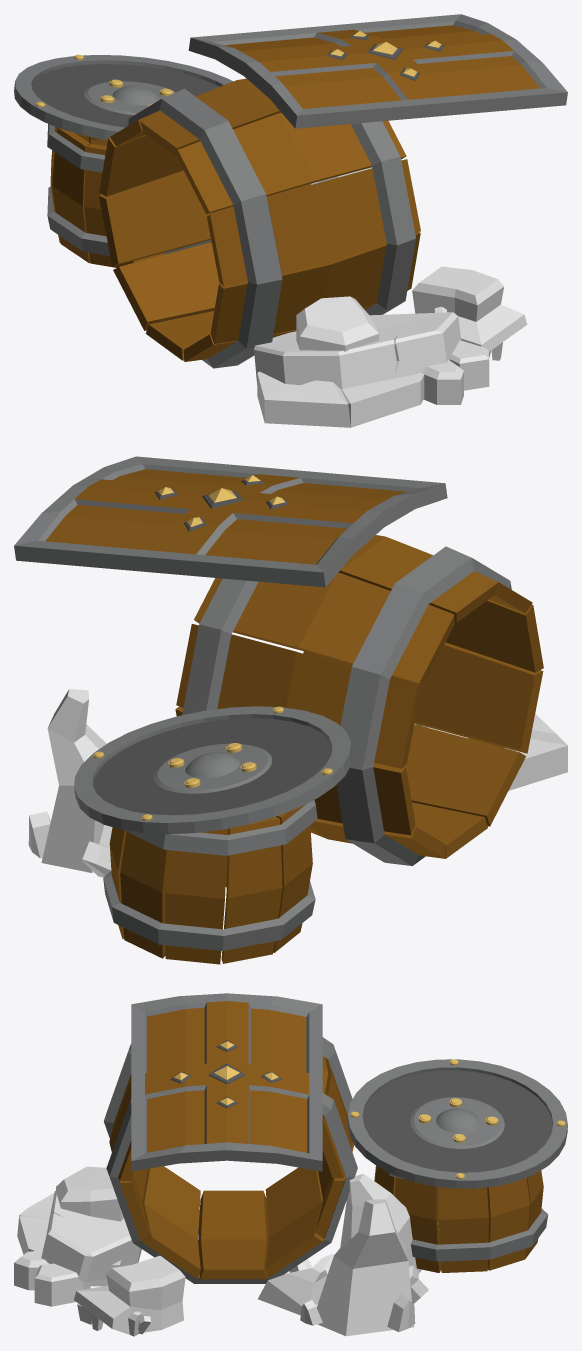
File: GoblinHouse3.fbx
3 views of the same model, one above another, from view 1: azimuth 30°, elevation 25°; view 2: azimuth 150°, elevation 25°; view 3: azimuth 270°, elevation 25° (orthographic). The views are drawn at different scales.
Parts seen in each view (by area): view 1: House.004, shield4.001, Rock Type1 01 mesh.002, shield.003, House.005, Rock Type6 02 mesh.002; view 2: House.004, shield4.001, shield.003, House.005, Rock Type3 02 mesh.002, Rock Type1 01 mesh.002; view 3: shield4.001, House.004, shield.003, Rock Type3 02 mesh.002, House.005, Rock Type1 01 mesh.002, Rock Type6 02 mesh.002, Cone.007.
Part boxes in pixels (x1,y1,x2,y2): House.004: [98, 78, 420, 368]; shield4.001: [188, 14, 567, 128]; Rock Type1 01 mesh.002: [254, 296, 489, 427]; shield.003: [14, 55, 232, 140]; House.005: [47, 124, 211, 267]; Rock Type6 02 mesh.002: [412, 266, 527, 360]; House.004: [175, 535, 543, 865]; shield4.001: [14, 456, 447, 587]; shield.003: [74, 706, 352, 834]; House.005: [103, 800, 317, 964]; Rock Type3 02 mesh.002: [28, 689, 112, 877]; Rock Type1 01 mesh.002: [414, 714, 567, 790]; shield4.001: [131, 993, 322, 1171]; House.004: [103, 1037, 357, 1283]; shield.003: [347, 1059, 567, 1188]; Rock Type3 02 mesh.002: [258, 1173, 428, 1336]; House.005: [374, 1165, 548, 1272]; Rock Type1 01 mesh.002: [14, 1166, 141, 1306]; Rock Type6 02 mesh.002: [74, 1255, 185, 1336]; Cone.007: [208, 1063, 245, 1084].
Bounding box in the file's own units: 1485 × 1146 × 2221.
